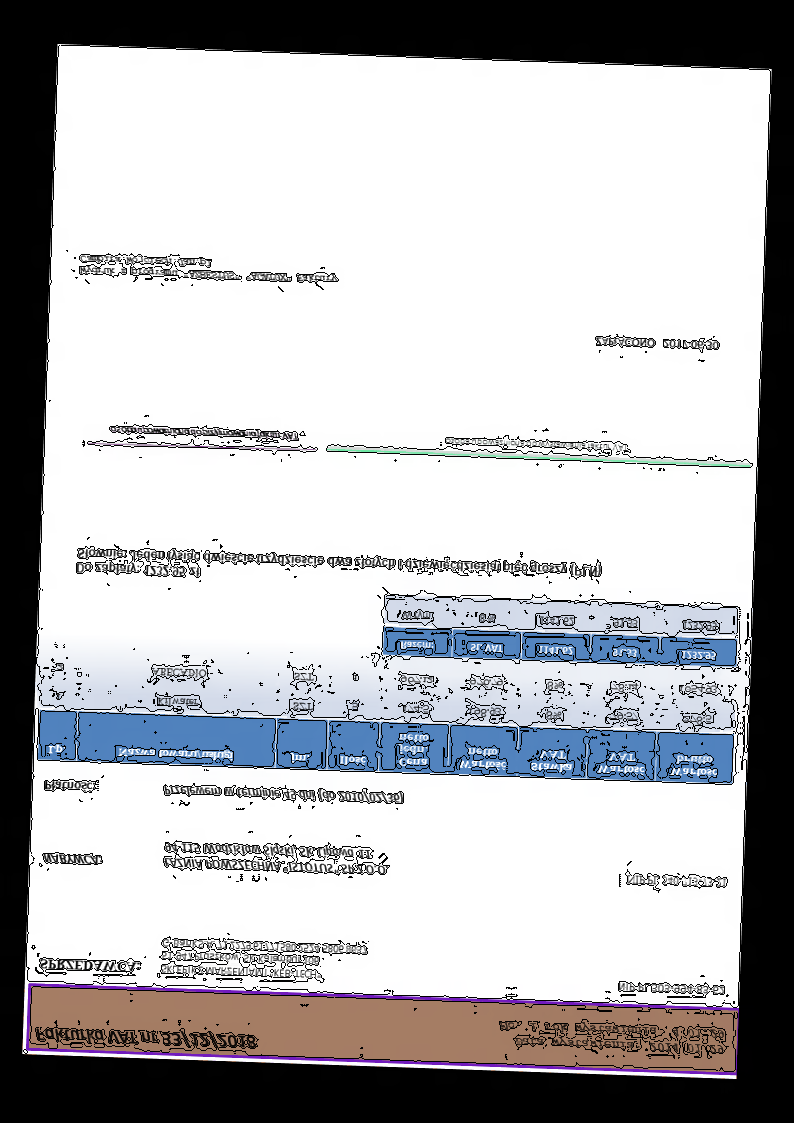Table: (35, 649, 737, 787), (380, 593, 739, 669)
TextBox: (73, 543, 604, 594), (158, 934, 369, 985), (77, 251, 342, 288), (494, 1017, 727, 1058), (160, 838, 392, 879), (32, 1023, 259, 1055), (161, 782, 405, 806), (107, 422, 299, 444), (441, 435, 632, 455), (593, 333, 722, 354), (615, 979, 727, 999), (36, 955, 141, 976), (622, 872, 730, 891), (40, 849, 103, 868), (40, 777, 98, 796)
